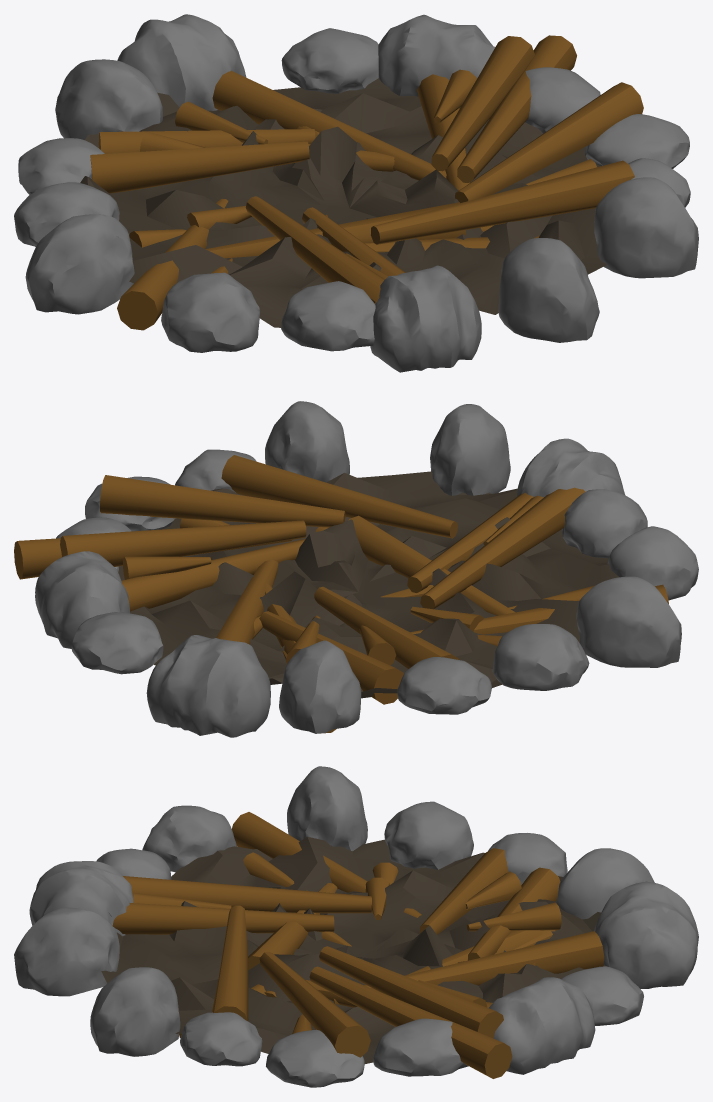
File: feuerstelle.fbx
3 views of the same model, one above another, from view 1: azimuth 30°, elevation 25°; view 2: azimuth 150°, elevation 25°; view 3: azimuth 270°, elevation 25° (orthographic). The views are drawn at different scales.
Visible parts, largest first — view 1: feuer_1; view 2: feuer_1; view 3: feuer_1.
Boxes of the visible parts, x1,y1,x2,y2 form: feuer_1: [14, 14, 698, 372]; feuer_1: [14, 401, 698, 737]; feuer_1: [14, 766, 698, 1087].
Size of the model in its own units: 162 by 25.55 by 167.
